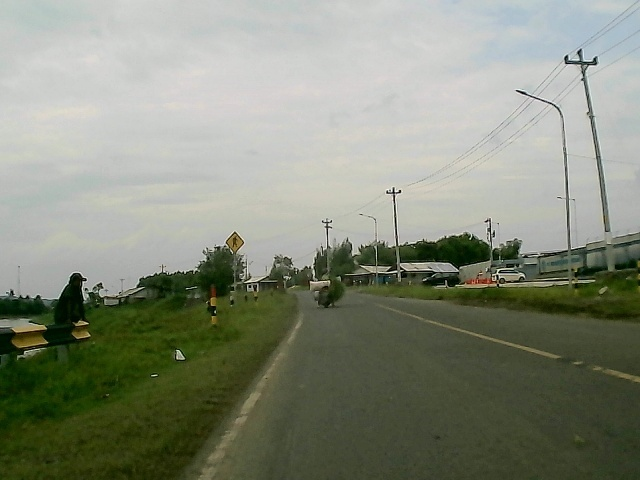Peringatan orang menyeberang: (224, 229, 244, 254)
